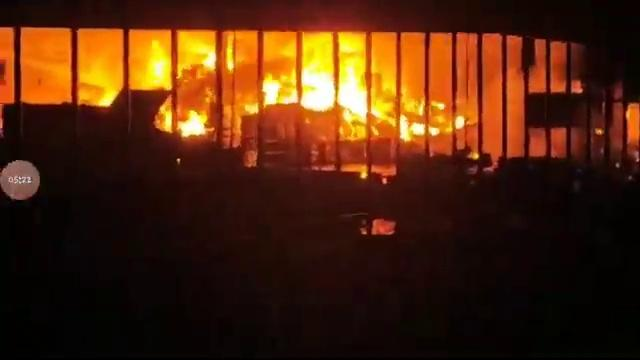fire: (291, 63, 375, 113), (175, 112, 207, 135)
